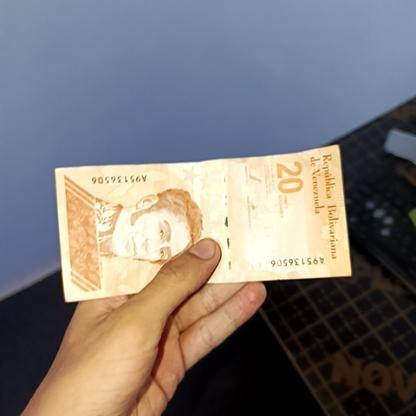twenty-front-vef: (52, 144, 352, 294)
